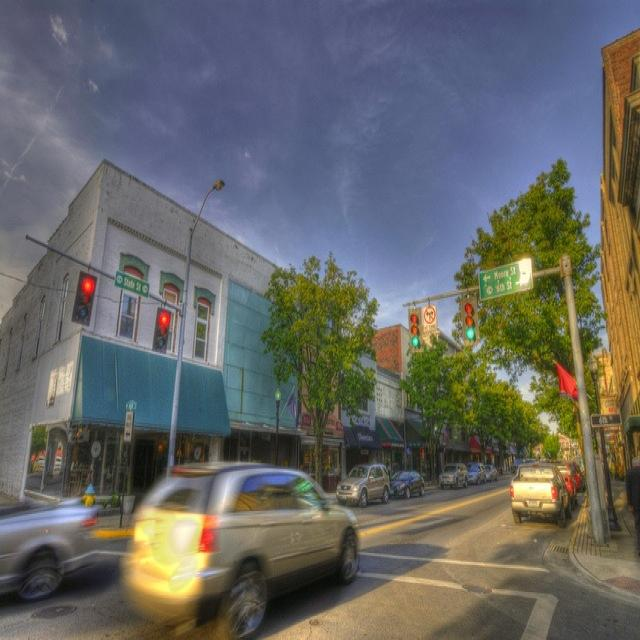car: (122, 462, 360, 631), (0, 496, 109, 604), (333, 462, 389, 506), (542, 456, 577, 508), (389, 466, 423, 496), (438, 462, 467, 487), (466, 460, 485, 483), (482, 463, 498, 481)
fire_hydrant: (81, 481, 94, 504)
pole: (560, 250, 605, 544), (163, 225, 195, 472)
truck: (509, 459, 570, 526)
